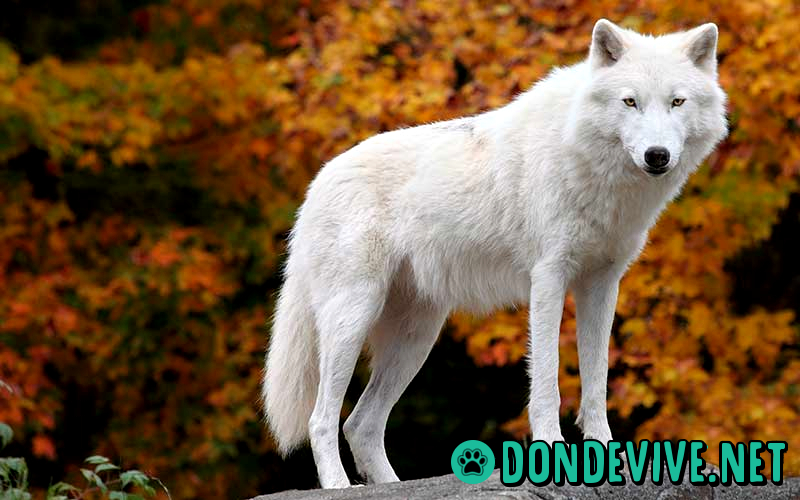Lobo: (266, 17, 726, 466)
